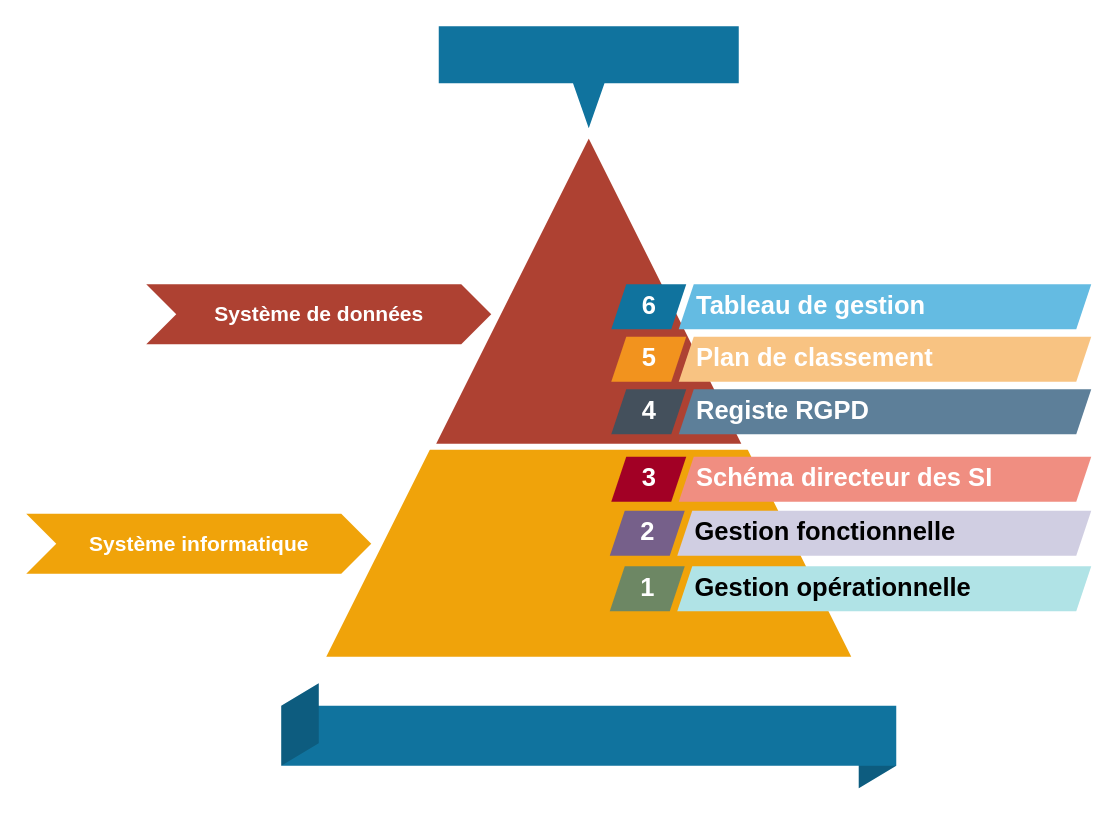
Some shapes in this 1116 by 813 pixel diagram are drawn without their labels. The centre of each missing label's shape, as x and y in pixels:
Systèmes d'informations: the point at 588,735
Valorisation: the point at 588,77
